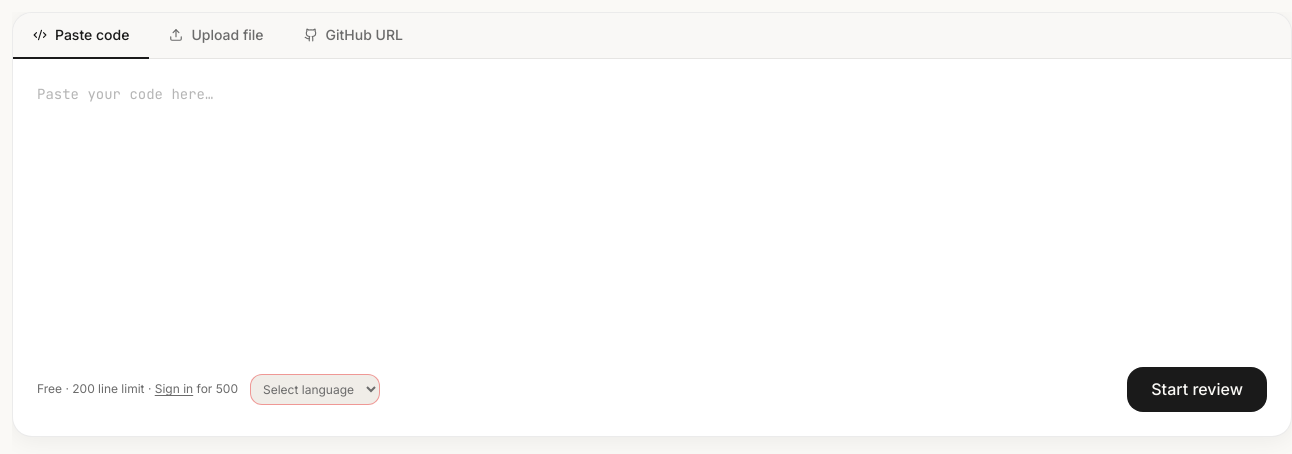
Test case: InputPanel — tab navigation › switching to Upload tab shows file drop zone
The image size is (1292, 454).
Click the button "Upload file".
click(216, 36)  # box [149,13,284,59]
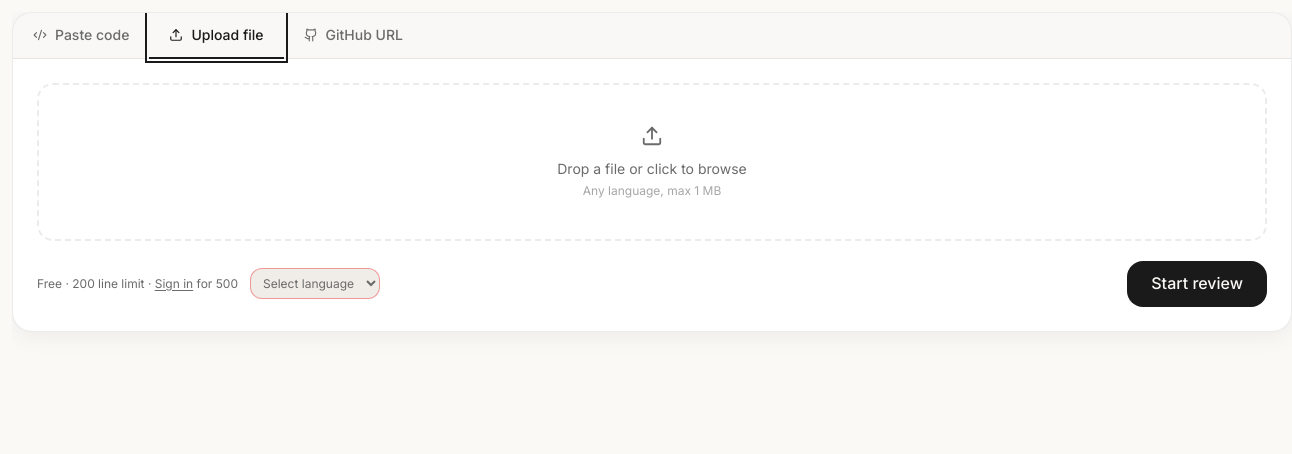
Result: the text "Drop a file or click to browse" is shown at [557,159,747,179]
